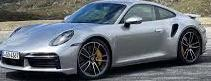Cars: (1, 2, 208, 80)
